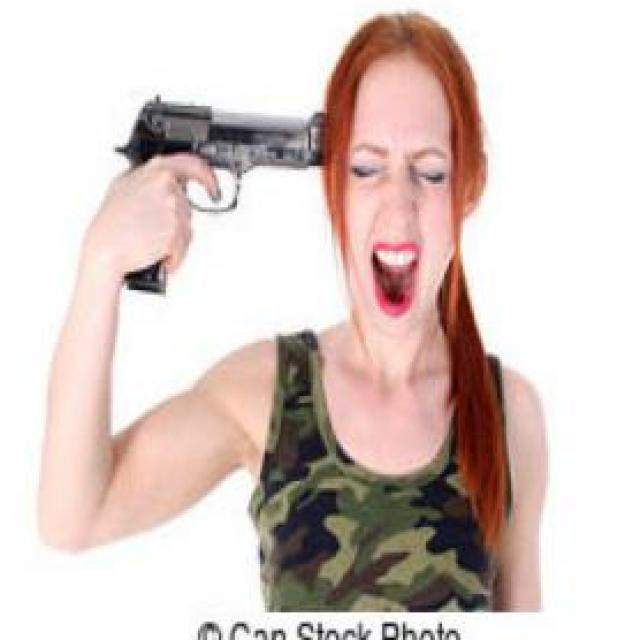pistol: (110, 96, 324, 294)
